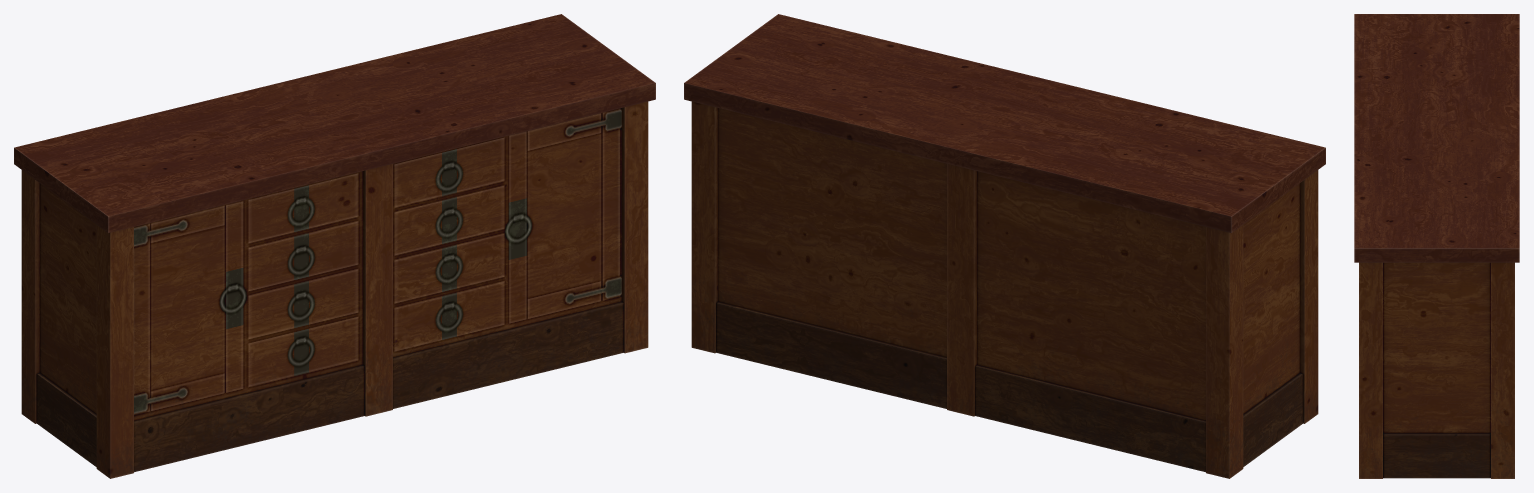
File: DS_WizLab_Furn_Console.fbx
3 renders of one model, left to right at view 1: azimuth 30°, elevation 25°; view 2: azimuth 150°, elevation 25°; view 3: azimuth 270°, elevation 25°, orthographic. The views are drawn at different scales.
Parts seen in each view (by area): view 1: DS_WizLab_Furn_Console; view 2: DS_WizLab_Furn_Console; view 3: DS_WizLab_Furn_Console.
Part boxes in pixels (x1=…): DS_WizLab_Furn_Console: x1=14, y1=14, x2=655, y2=478; DS_WizLab_Furn_Console: x1=684, y1=14, x2=1325, y2=478; DS_WizLab_Furn_Console: x1=1354, y1=14, x2=1519, y2=478.
Size of the model in its own units: 173 by 80.18 by 51.63.
Materials: 1 (1 with a texture image).
